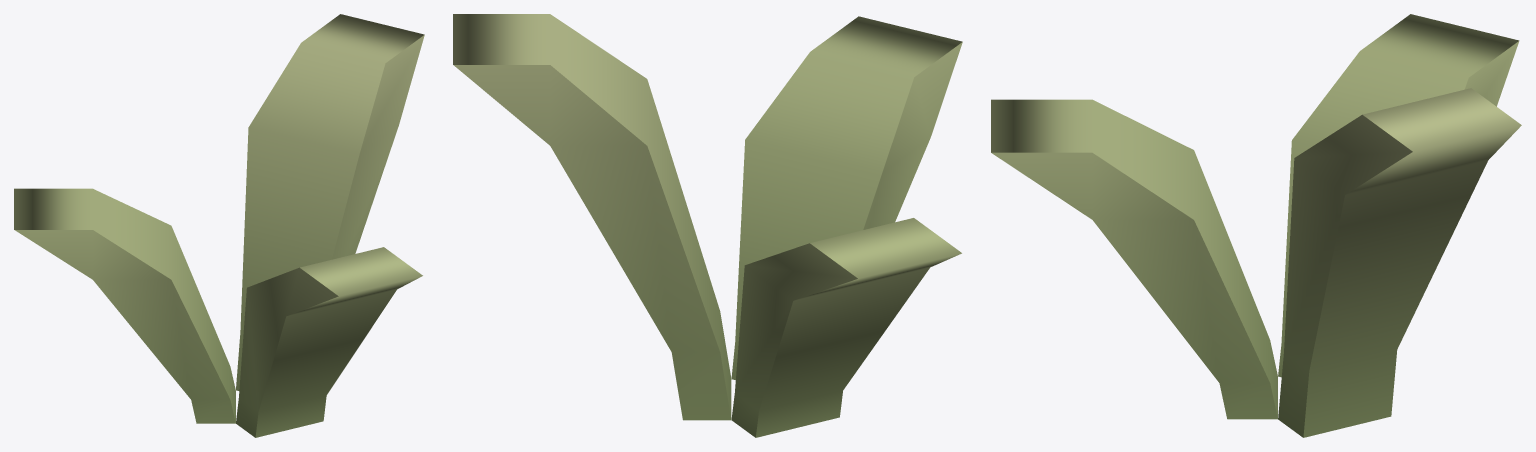
File: garden-plant-large.glb
3 renders of one model, left to right at view 1: azimuth 30°, elevation 25°; view 2: azimuth 150°, elevation 25°; view 3: azimuth 270°, elevation 25°, orthographic. The views are drawn at different scales.
Visible parts, largest first — view 1: garden-plant-large; view 2: garden-plant-large; view 3: garden-plant-large.
Boxes of the visible parts, box(x1,y1,x2,y2) form: garden-plant-large: box(14, 14, 424, 437); garden-plant-large: box(453, 14, 962, 437); garden-plant-large: box(991, 14, 1521, 437).
Size of the model in its own units: 0.4532 by 0.307 by 0.3922.
